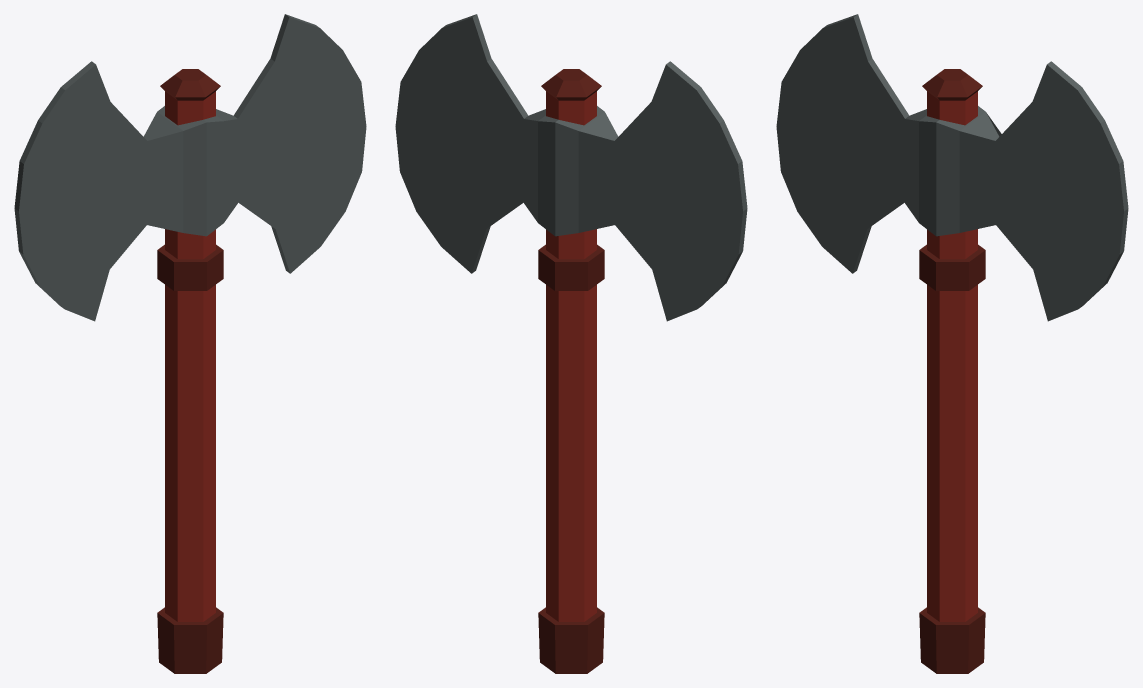
The model's file is Axe_4_Red.fbx.
3 views of the same model, side by side, from view 1: azimuth 30°, elevation 25°; view 2: azimuth 150°, elevation 25°; view 3: azimuth 330°, elevation 25° (orthographic).
Parts seen in each view (by area): view 1: Axe_4_Red_Part_1, Axe_4_Red_Part_2, Axe_4_Red_Part_3; view 2: Axe_4_Red_Part_1, Axe_4_Red_Part_2, Axe_4_Red_Part_3; view 3: Axe_4_Red_Part_1, Axe_4_Red_Part_2, Axe_4_Red_Part_3.
Part boxes in pixels (box(x1,y1,x2,y2)): Axe_4_Red_Part_1: box(14, 14, 366, 321); Axe_4_Red_Part_2: box(165, 91, 215, 621); Axe_4_Red_Part_3: box(157, 69, 223, 673); Axe_4_Red_Part_1: box(395, 14, 747, 321); Axe_4_Red_Part_2: box(546, 91, 596, 621); Axe_4_Red_Part_3: box(538, 69, 604, 673); Axe_4_Red_Part_1: box(776, 14, 1128, 321); Axe_4_Red_Part_2: box(927, 91, 977, 621); Axe_4_Red_Part_3: box(919, 69, 985, 673).
Size of the model in its own units: 88.25 by 151 by 14.58.
